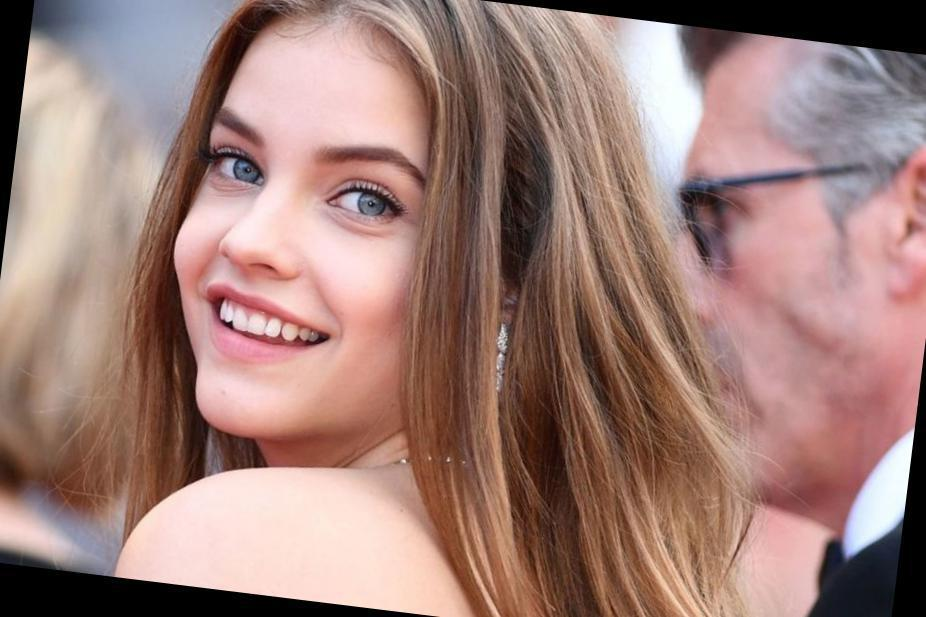Sober: (185, 73, 439, 400)
